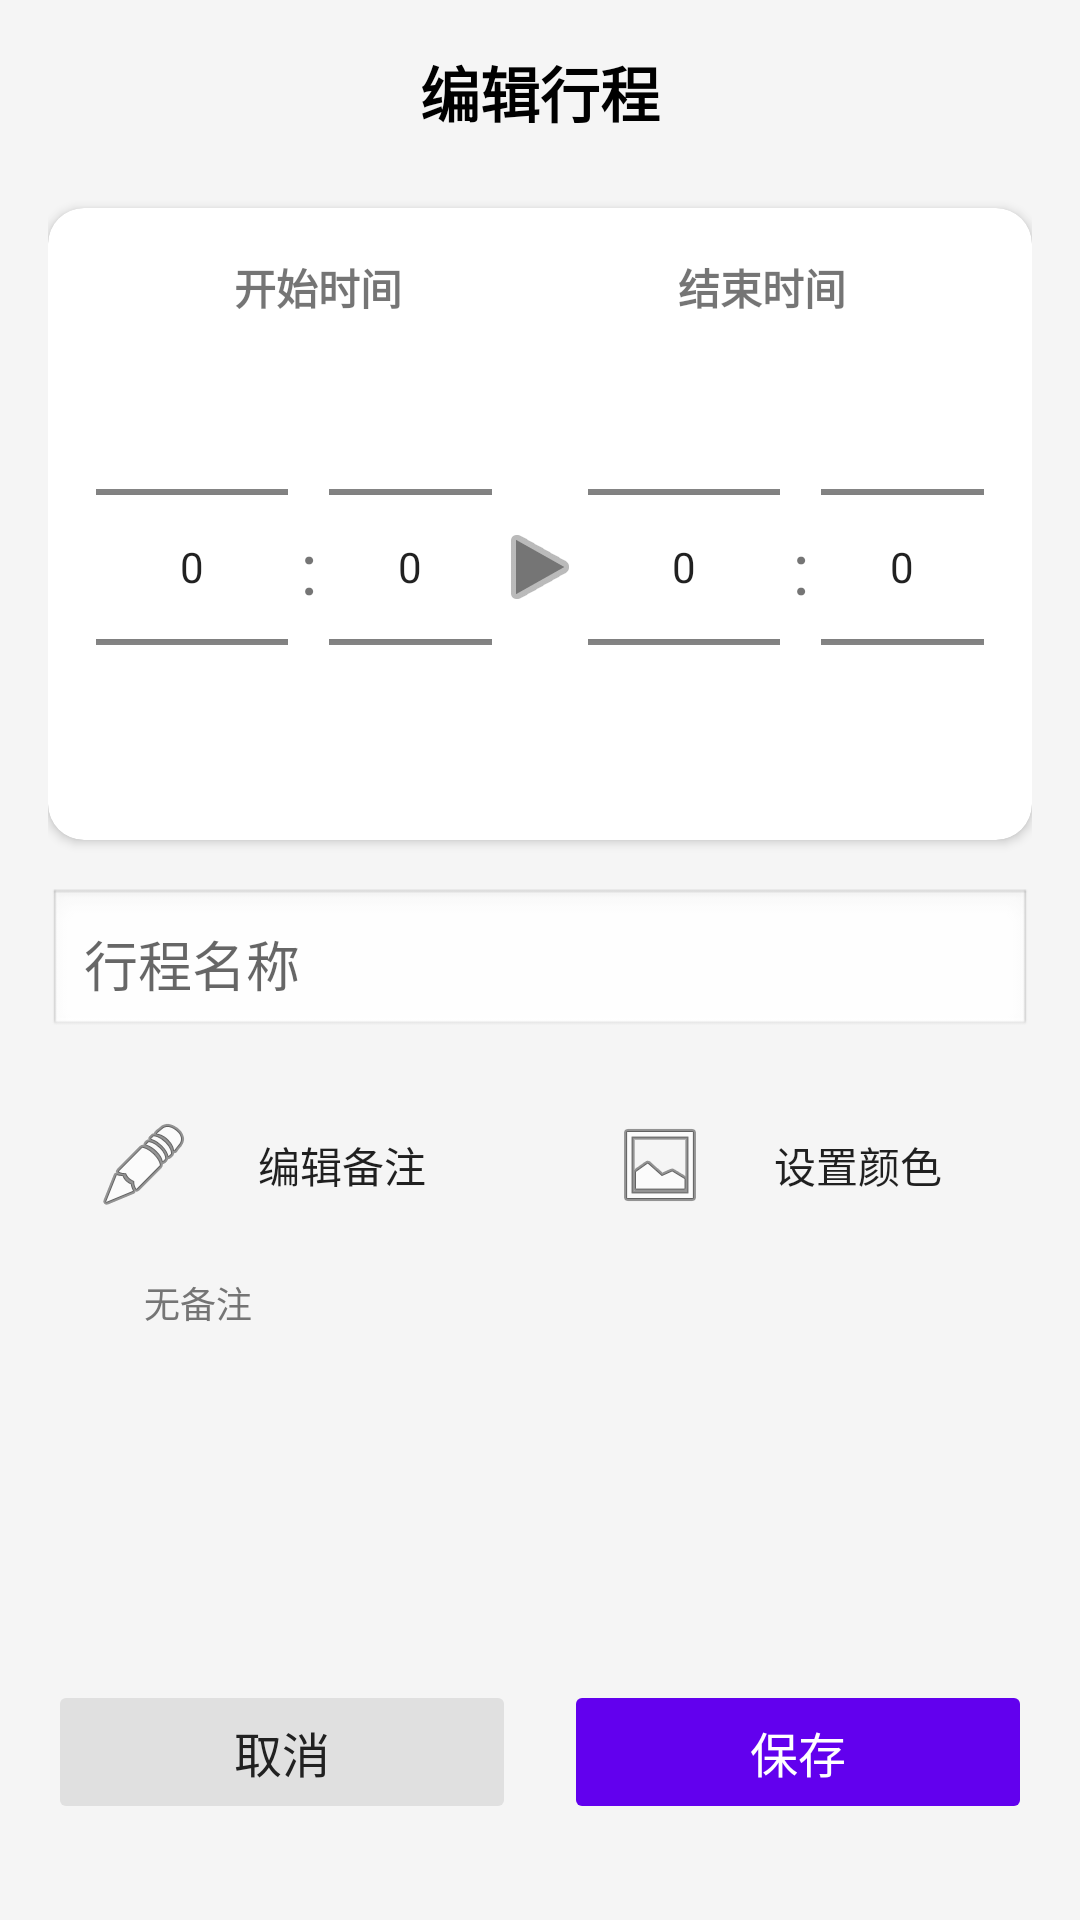

Screen size 1080px x 1920px. Icon name, then its center in pixels as (x=x, y=y):
play: (x=540, y=567)
